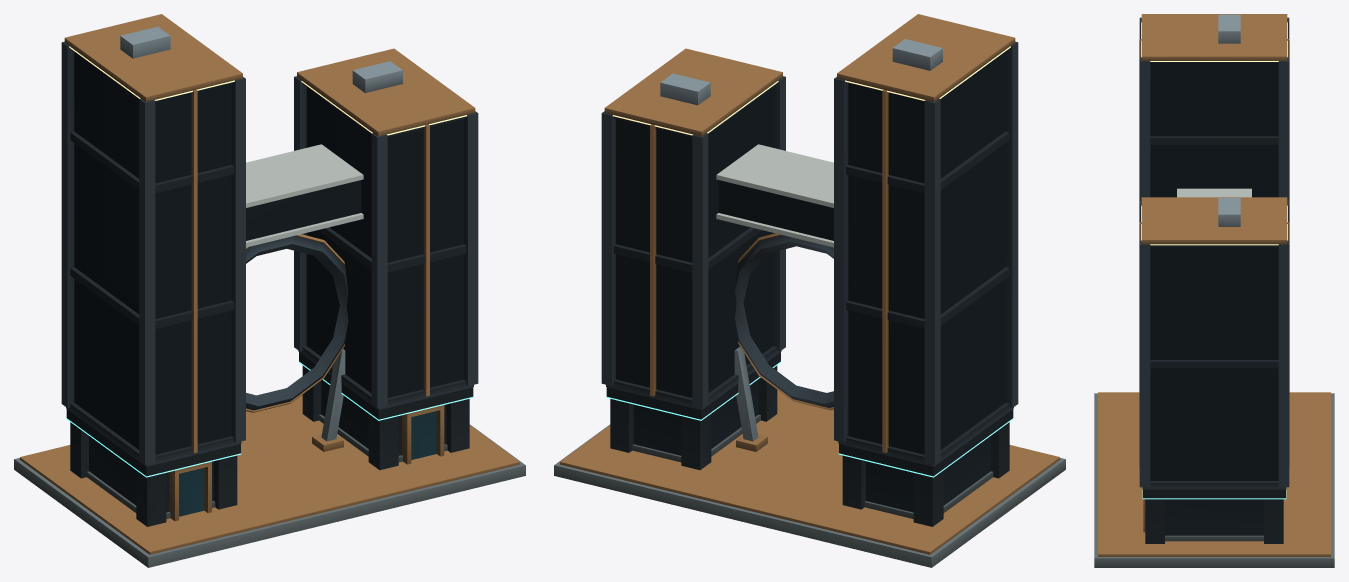
File: integration-gate.lod2.glb
The picture shows the model from 3 angles, left to right: view 1: azimuth 30°, elevation 25°; view 2: azimuth 150°, elevation 25°; view 3: azimuth 270°, elevation 25°; orthographic projection. The views are drawn at different scales.
Visible parts, largest first — view 1: structure, lobby; view 2: structure, lobby; view 3: structure, lobby.
Part boxes in pixels (x1=…): structure: x1=14, y1=14, x2=525, y2=567; lobby: x1=89, y1=380, x2=446, y2=516; structure: x1=554, y1=14, x2=1065, y2=567; lobby: x1=633, y1=379, x2=990, y2=512; structure: x1=1094, y1=14, x2=1334, y2=567; lobby: x1=1165, y1=499, x2=1263, y2=535.
Bounding box in the file's own units: 26 × 30.22 × 16.
